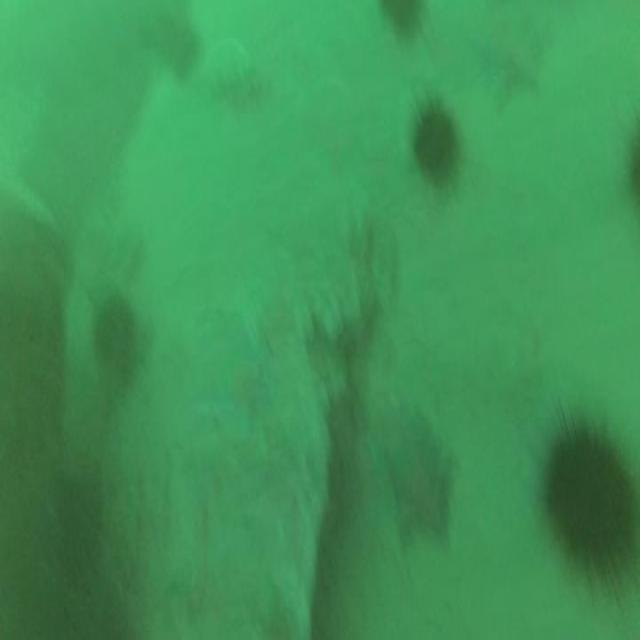echinus: (546, 433, 636, 567), (91, 292, 138, 380), (414, 109, 457, 177)
starfish: (387, 430, 449, 540)
